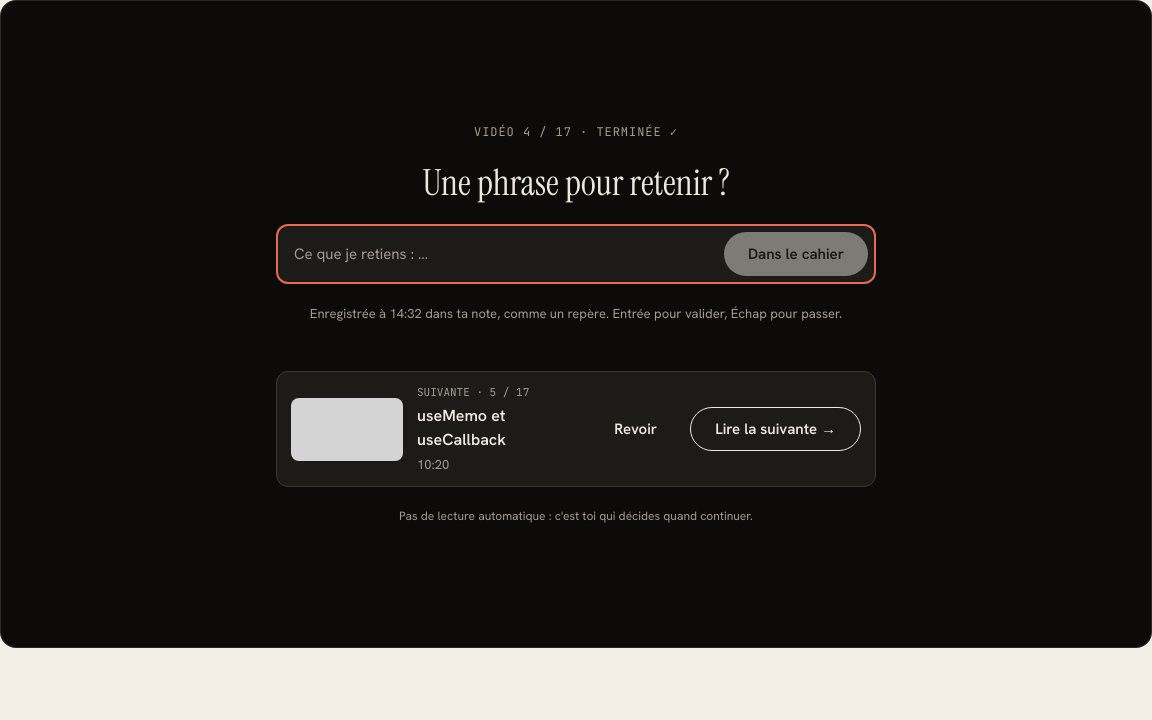
Test: EndCard (YC-60, Figma « Fin de vidéo » 102:168) › keeps the sentence when the note is not ready
This screenshot has width=1152, height=720.
Type "Retenu" into the field named "Une phrase pour retenir".
click(504, 254); type("Retenu")  # box x1=294 y1=243 x2=714 y2=265
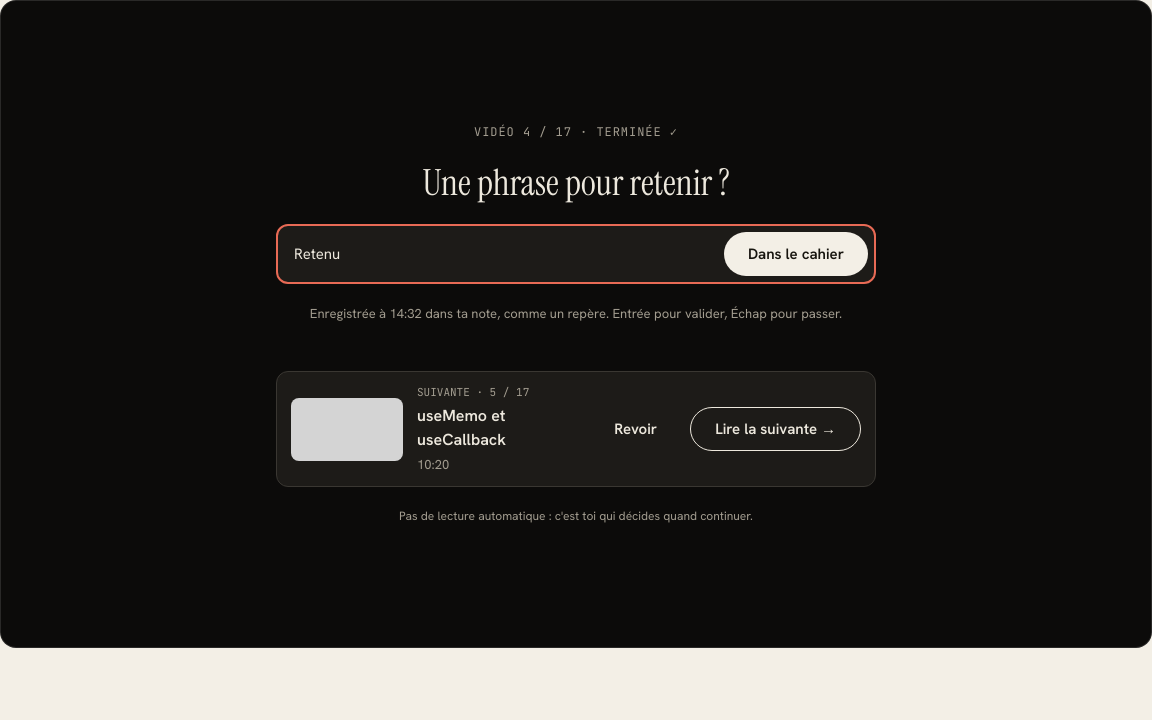
Submit the form from the field named "Une phrase pour retenir", box x1=294 y1=243 x2=714 y2=265
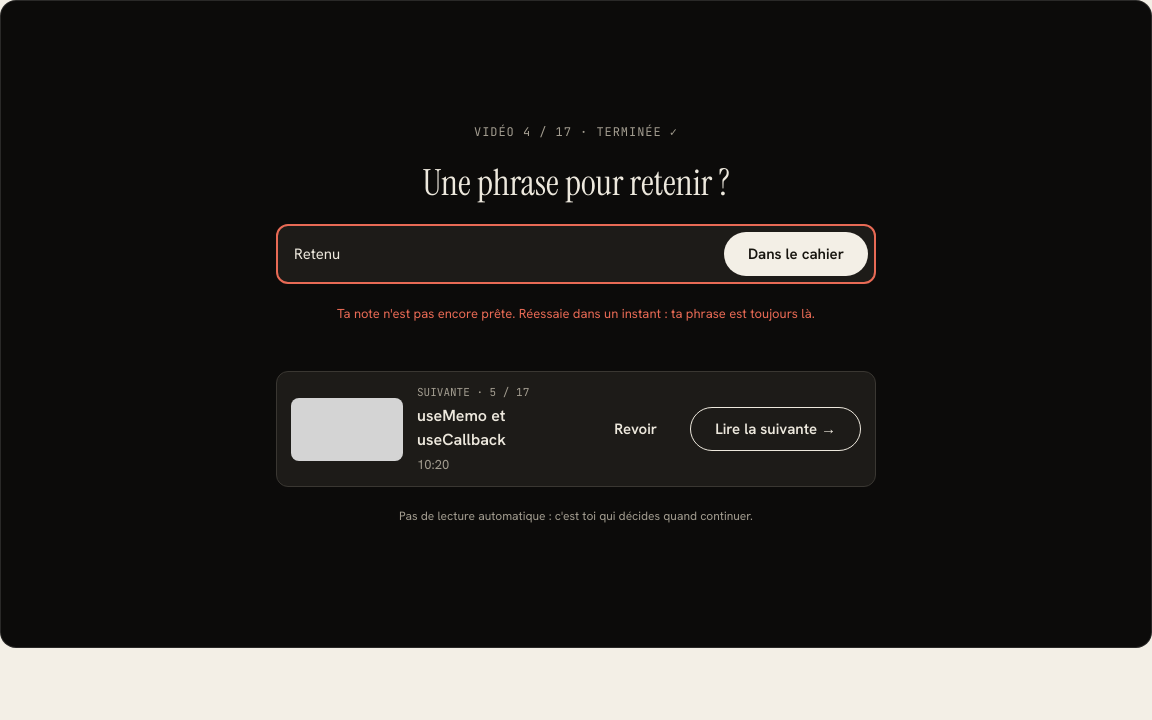
Now the message shows "Ta note n'est pas encore prête", box x1=337 y1=305 x2=815 y2=322
